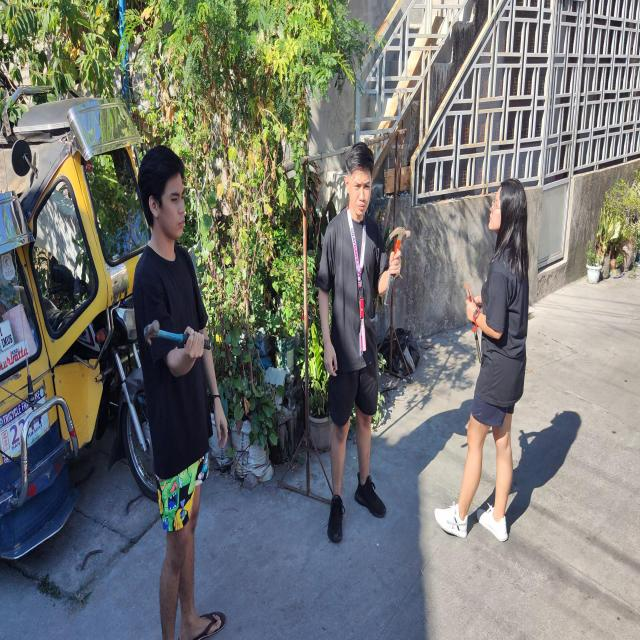hammer: (384, 227, 411, 306), (144, 320, 211, 350), (464, 282, 482, 363)
